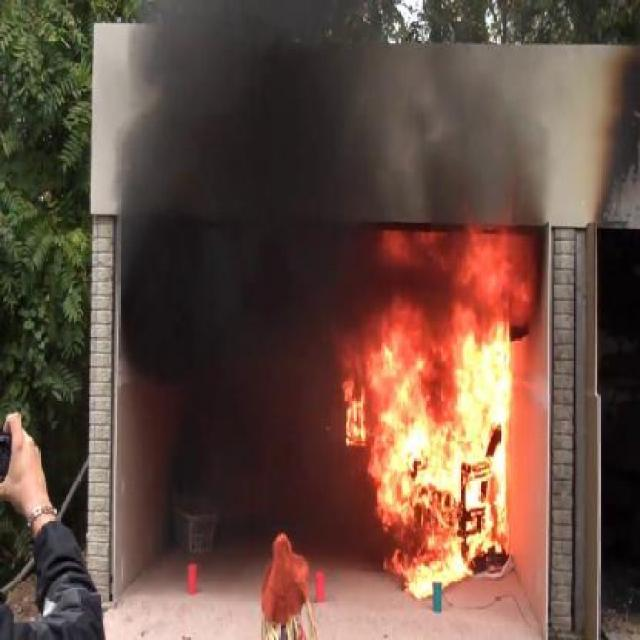fire: (346, 250, 528, 588)
smoke: (111, 75, 317, 558)
